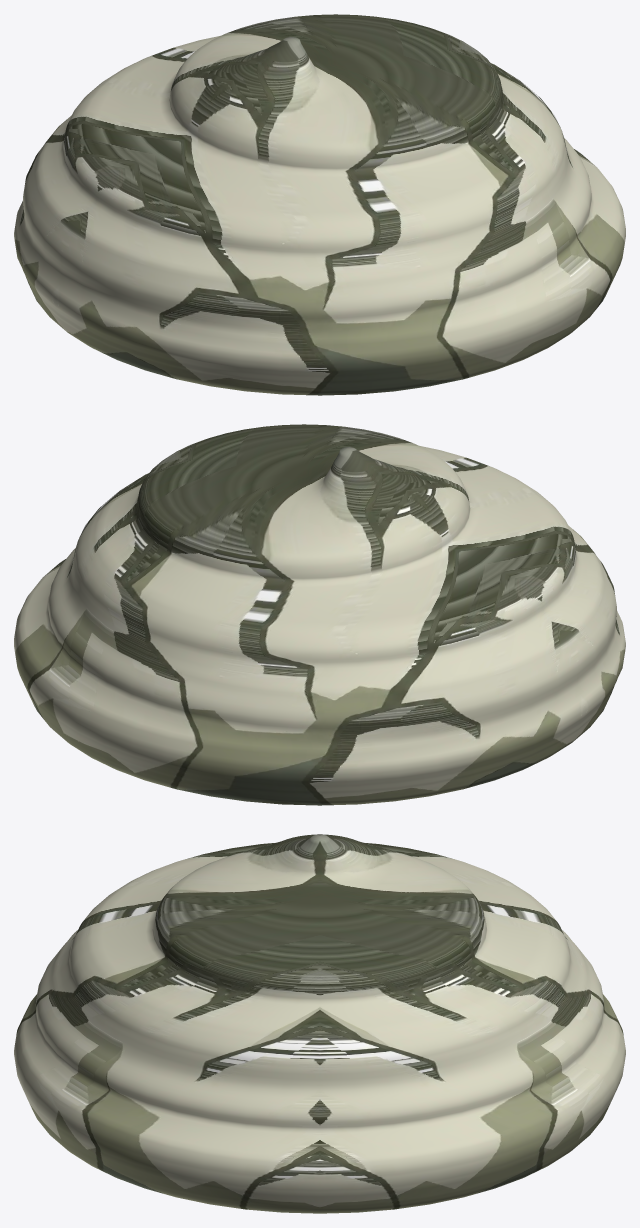
The model's file is white_stone_cluster.glb.
3 views of the same model, one above another, from view 1: azimuth 30°, elevation 25°; view 2: azimuth 150°, elevation 25°; view 3: azimuth 270°, elevation 25° (orthographic).
Visible parts, largest first — view 1: white_stone_cluster; view 2: white_stone_cluster; view 3: white_stone_cluster.
Part boxes in pixels (box(x1,y1,x2,y2)): white_stone_cluster: box(14, 14, 625, 395); white_stone_cluster: box(14, 424, 625, 805); white_stone_cluster: box(14, 834, 625, 1213).
Bounding box in the file's own units: 0.9961 × 0.4659 × 0.9961.
1 material, 1 textured.
